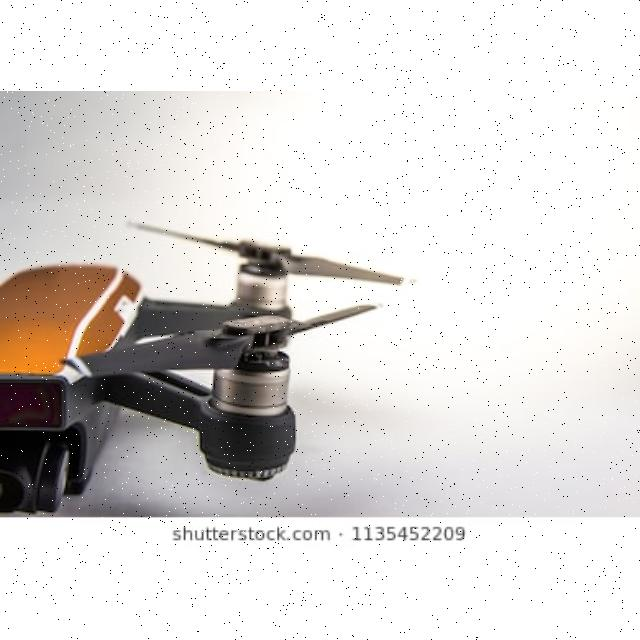Drones: (4, 232, 363, 512)
